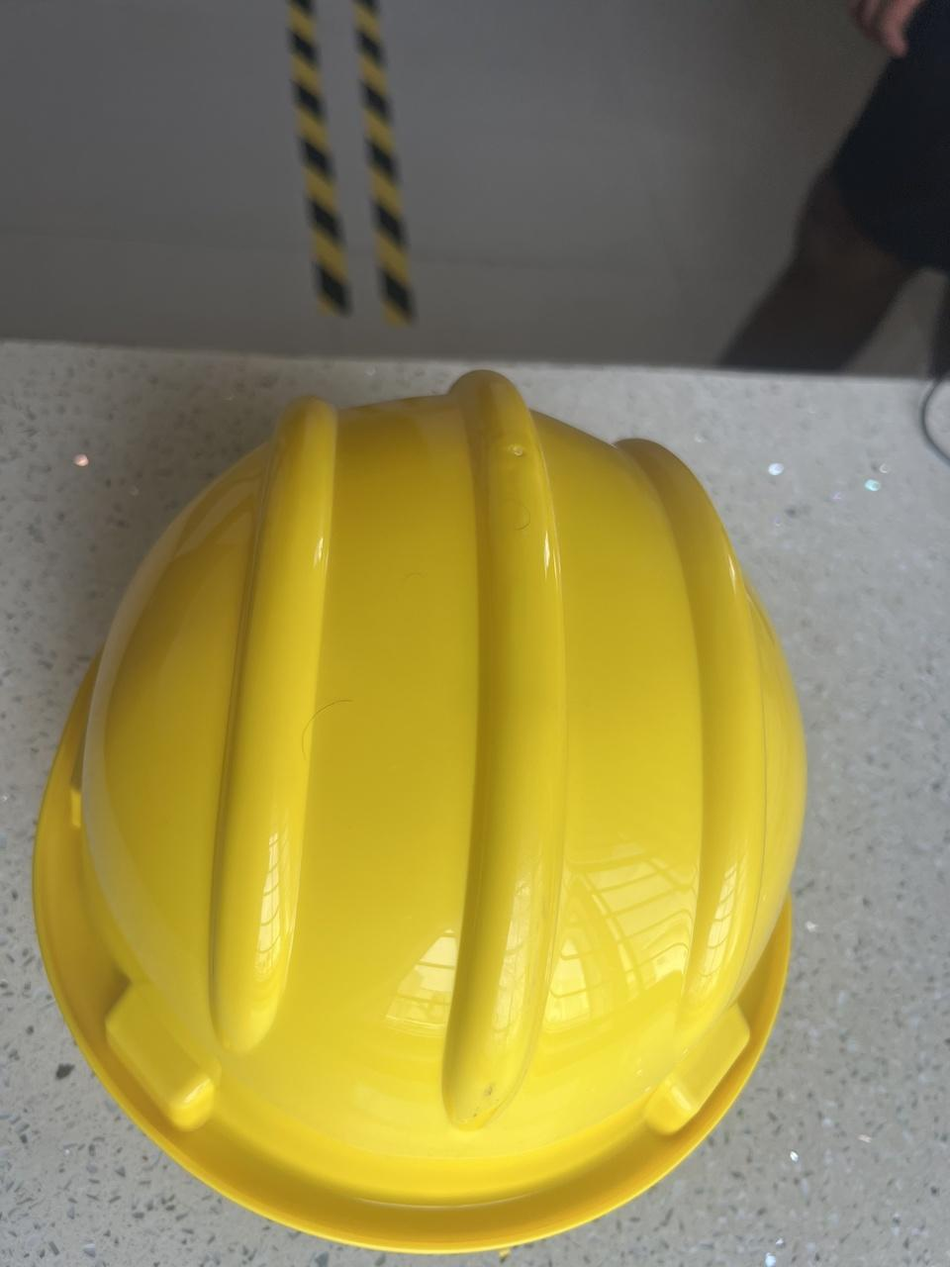BorderLine: (351, 0, 417, 327), (285, 0, 351, 317)
Helmet: (28, 368, 811, 1253)
